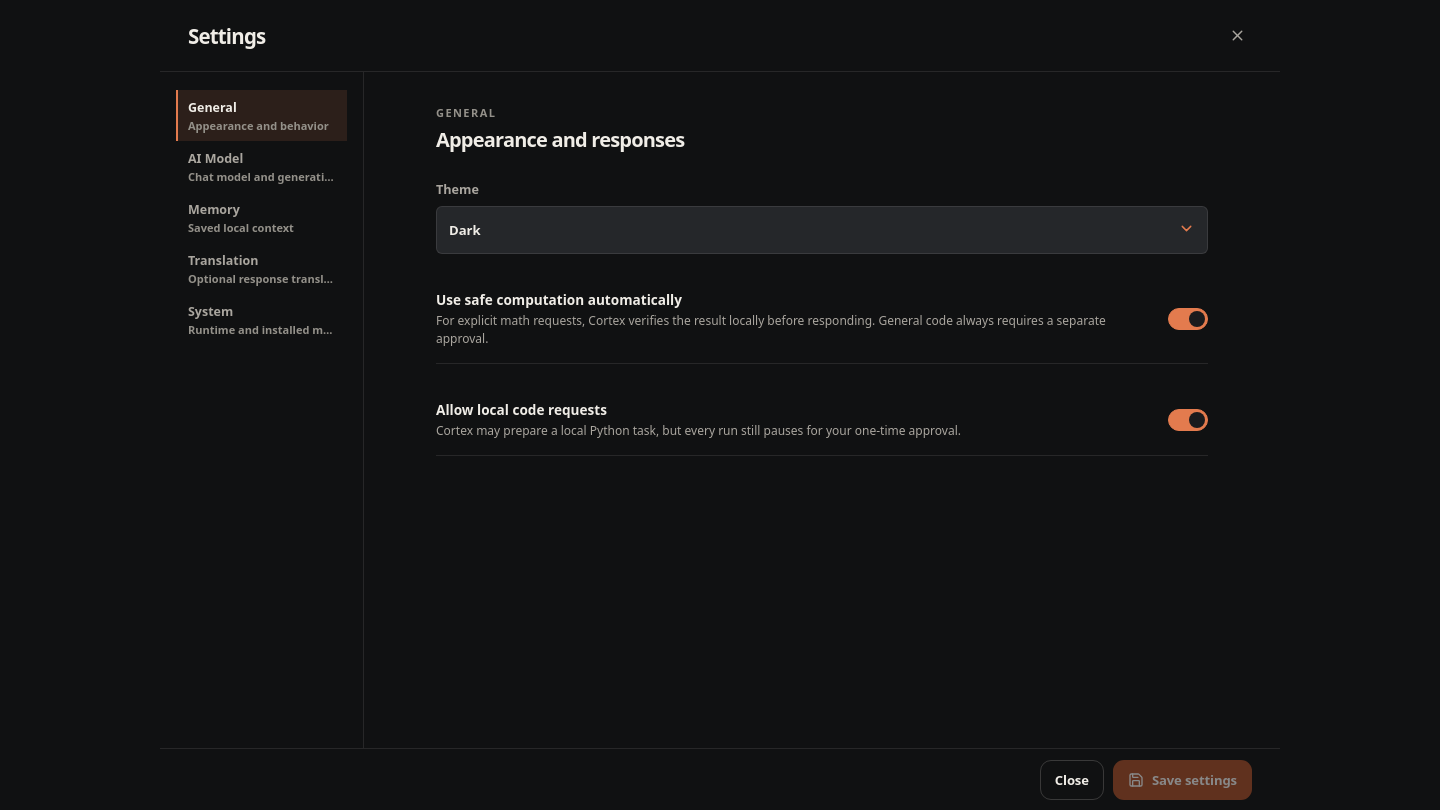
Test: SettingsPanel unsaved changes › asks before Close throws edits away, and Keep editing stays put with the edit intact
Click the dropdown named "Theme". click: (465, 230)
box: [436,206,1208,254]
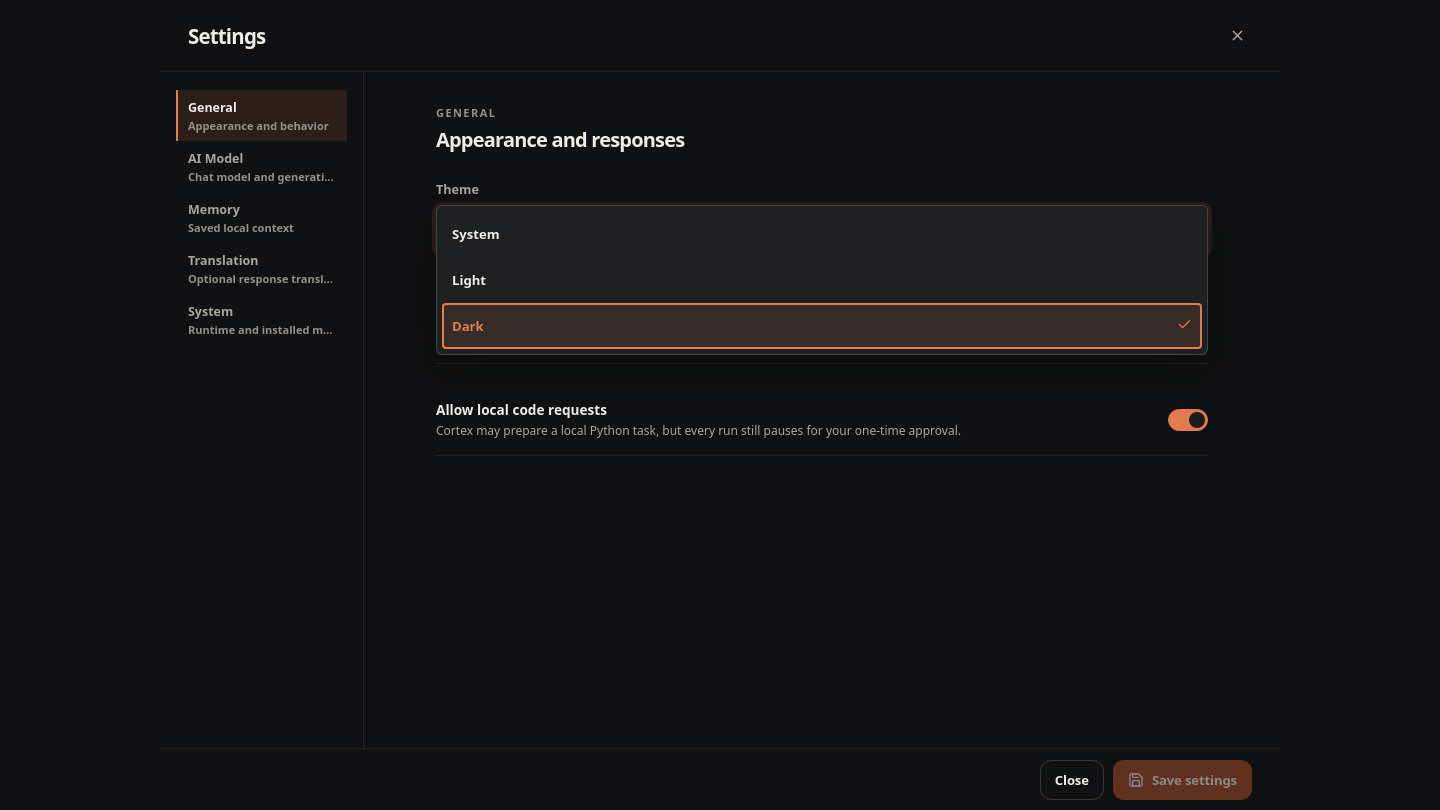
Click the option "Light". click: (469, 280)
box: [452,271,486,289]
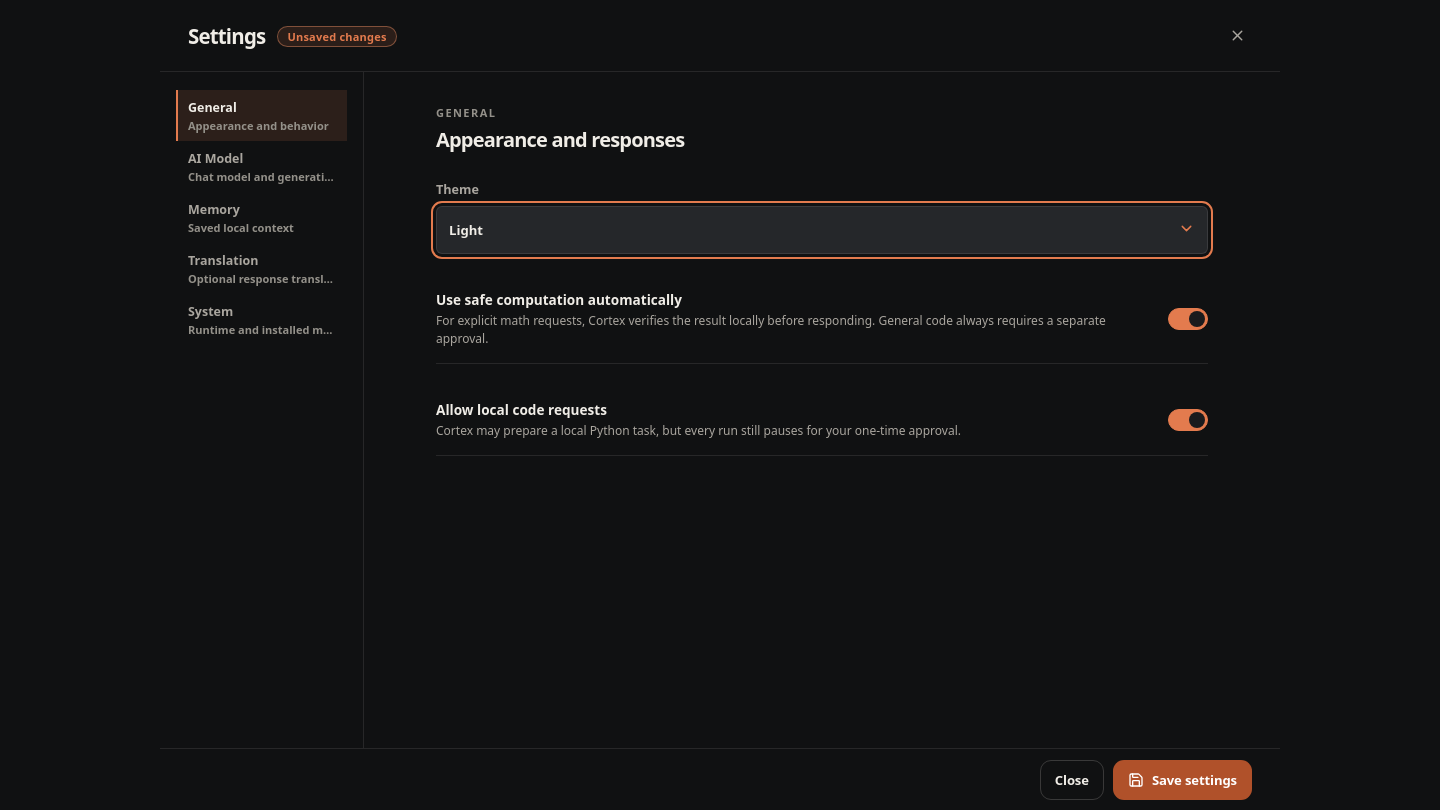
Click the button named "Close settings". click: (1237, 36)
box: [1222,20,1252,50]
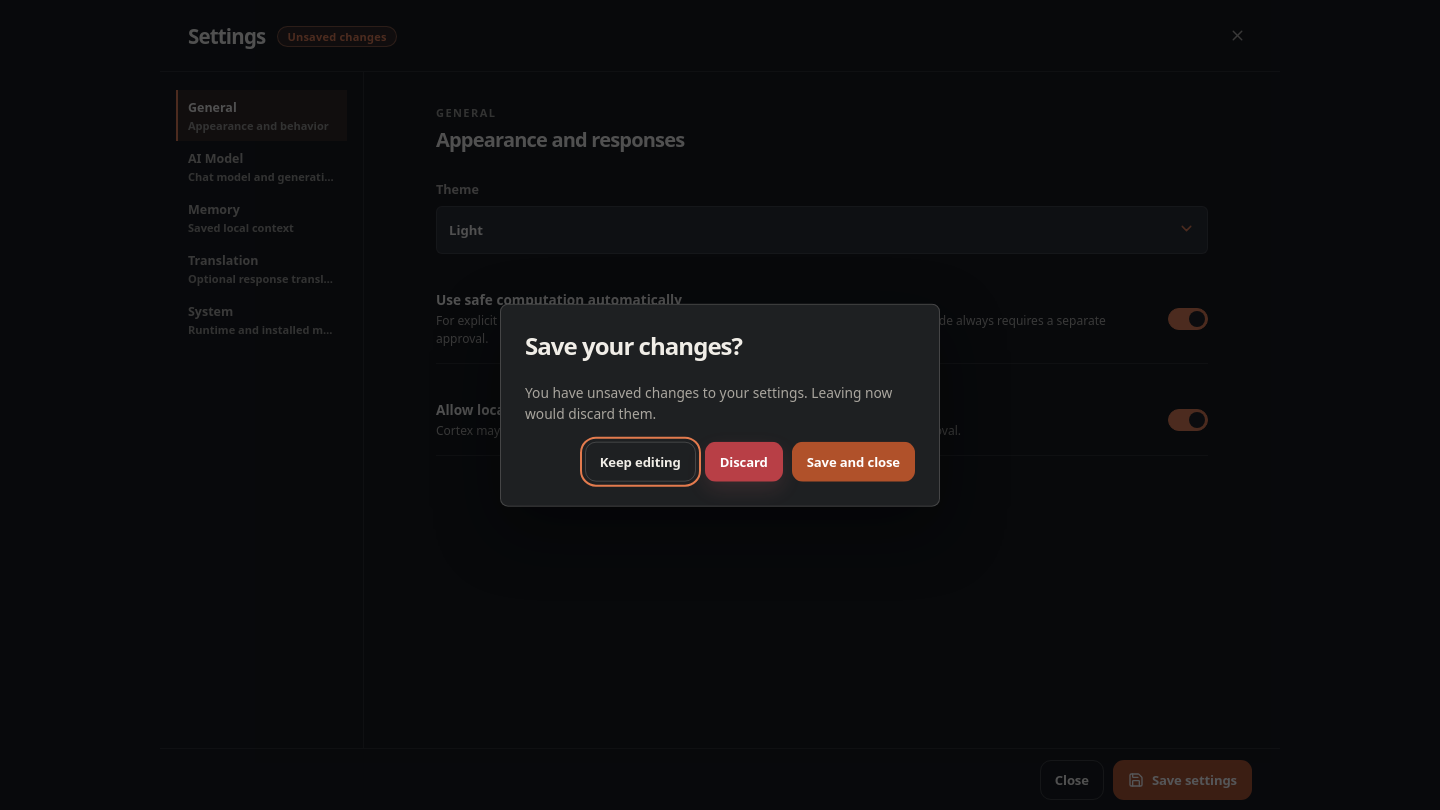
Now the heading "Save your changes?" is shown, box [525,329,742,362]
Click the button "Keep editing". click: (640, 461)
box: [585,441,696,481]
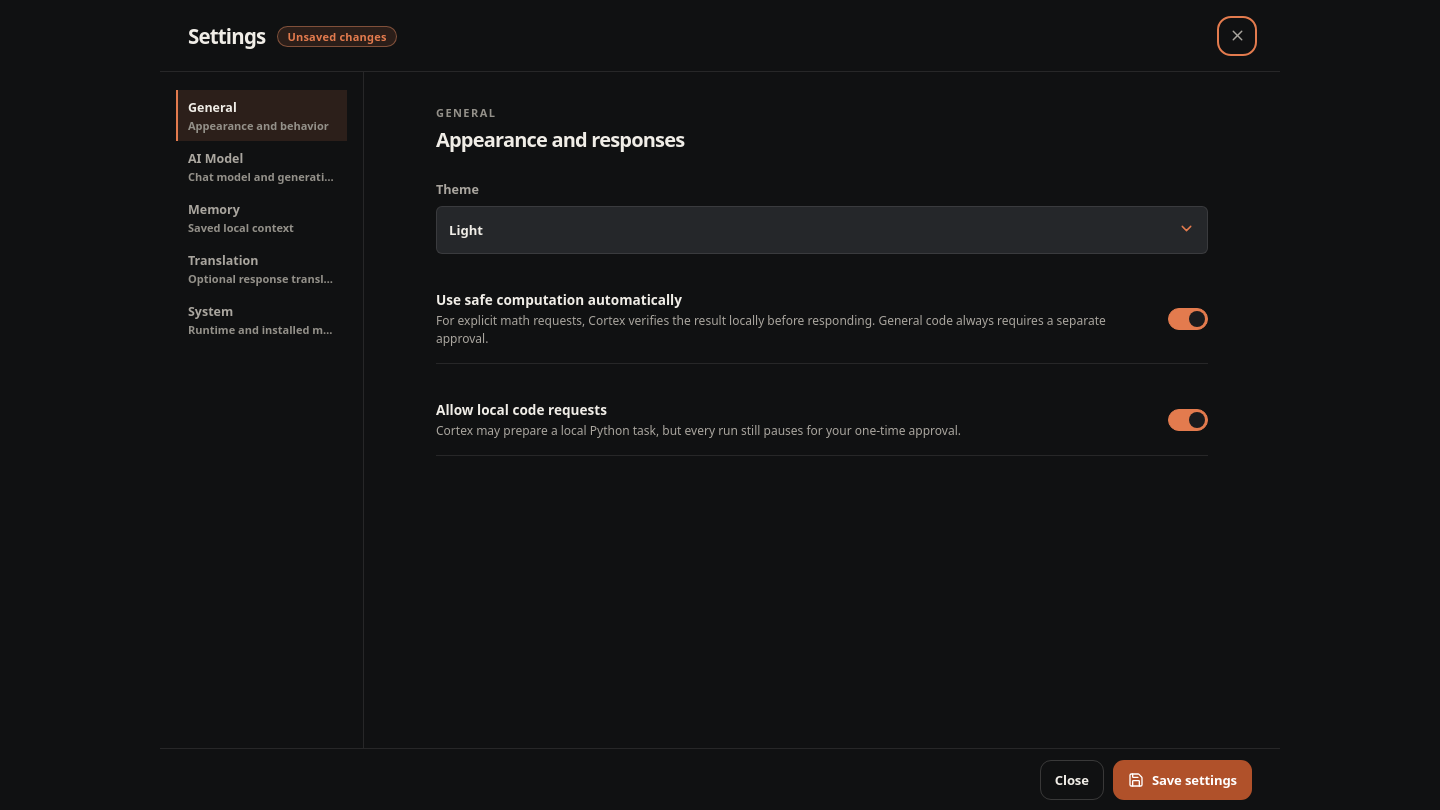
Now the text "Unsaved changes" is shown, box [277,26,397,47]
Now the dropdown named "Theme" reads "Light", box [436,206,1208,254]
Now the dialog is gone
